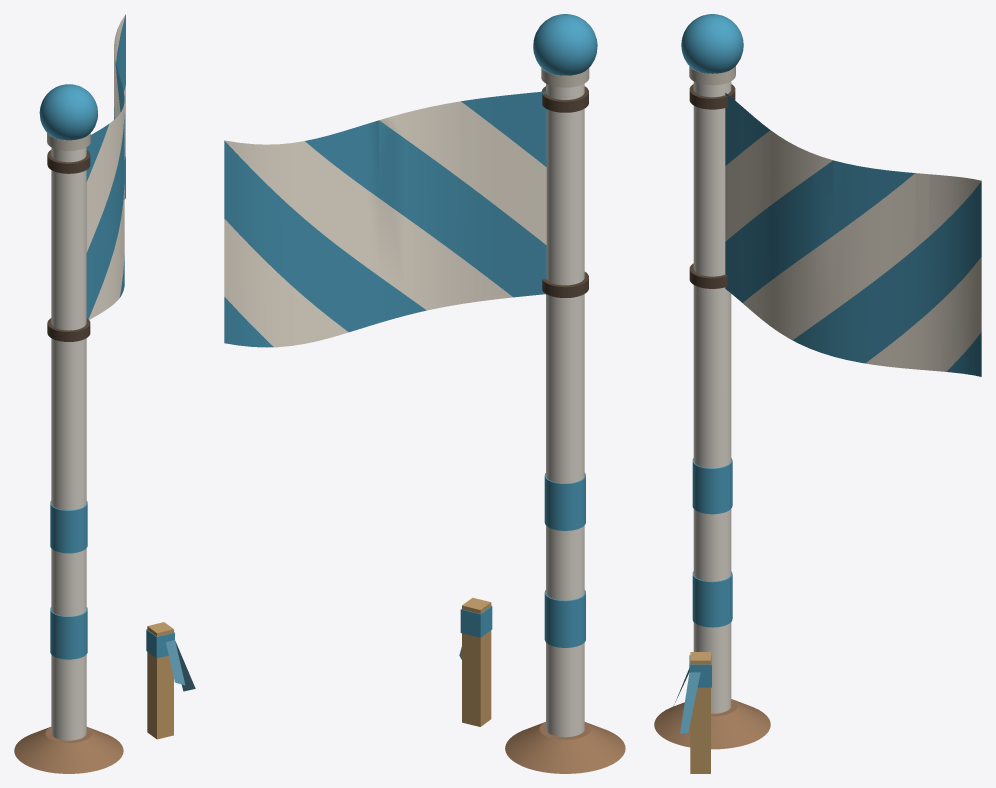
File: survey-flag-blue.glb
3 renders of one model, left to right at view 1: azimuth 30°, elevation 25°; view 2: azimuth 150°, elevation 25°; view 3: azimuth 270°, elevation 25°, orthographic. The views are drawn at different scales.
Parts seen in each view (by area): view 1: body, cloth; view 2: cloth, body; view 3: cloth, body.
Boxes of the visible parts, x1,y1,x2,y2 form: body: [14, 84, 195, 773]; cloth: [86, 14, 125, 319]; cloth: [224, 91, 546, 347]; body: [459, 14, 625, 773]; cloth: [725, 93, 981, 376]; body: [654, 14, 770, 773].
Size of the model in its own units: 0.6815 by 1.88 by 0.7864.
